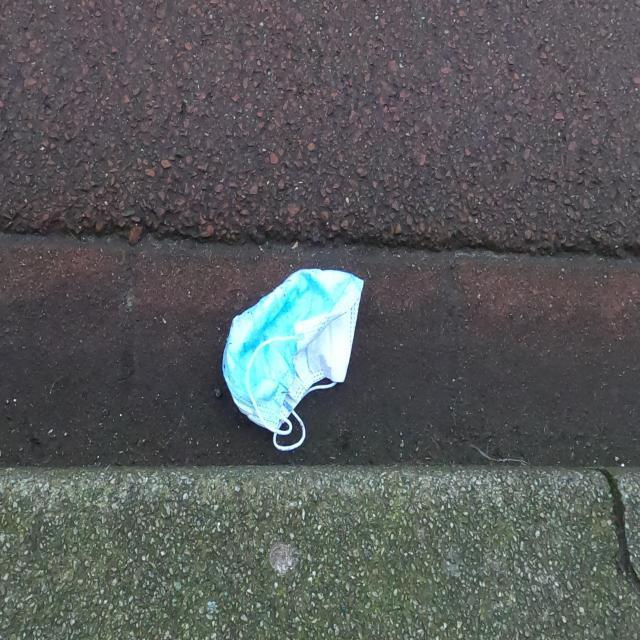Mask: (217, 263, 367, 455)
